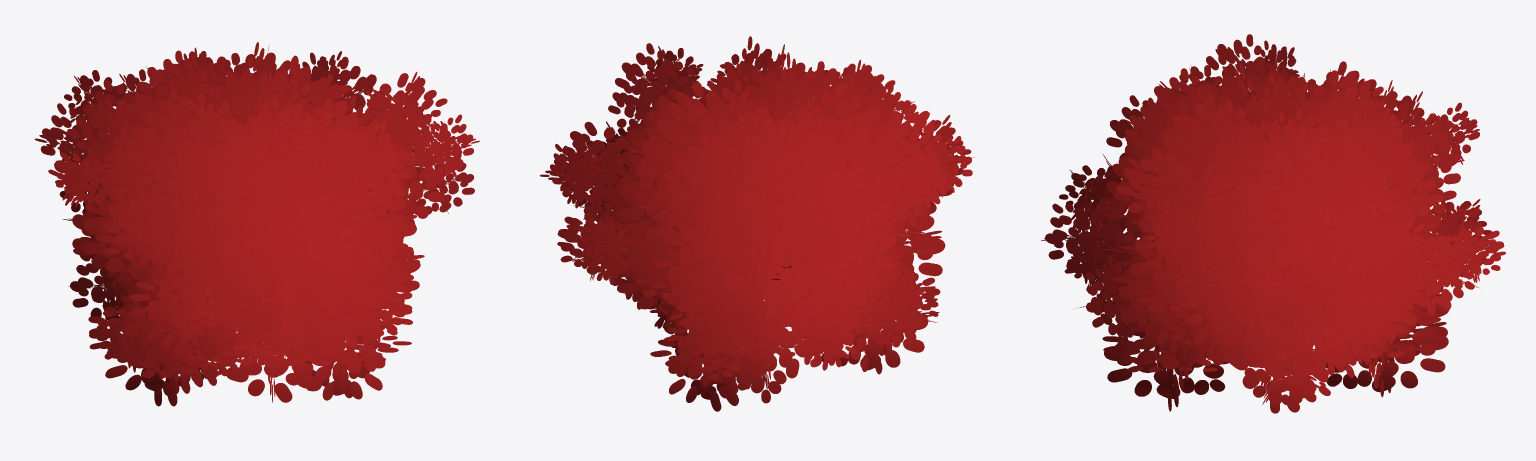
The model's file is buisson.glb.
3 views of the same model, side by side, from view 1: azimuth 30°, elevation 25°; view 2: azimuth 150°, elevation 25°; view 3: azimuth 270°, elevation 25° (orthographic). The views are drawn at different scales.
Visible parts, largest first — view 1: Bush_Common; view 2: Bush_Common; view 3: Bush_Common.
Boxes of the visible parts, bbox=[...] form: Bush_Common: bbox=[34, 42, 479, 406]; Bush_Common: bbox=[539, 36, 974, 411]; Bush_Common: bbox=[1041, 34, 1505, 413].
Bounding box in the file's own units: 1.91 × 1.58 × 1.97.
Materials: 1 (1 with a texture image).
